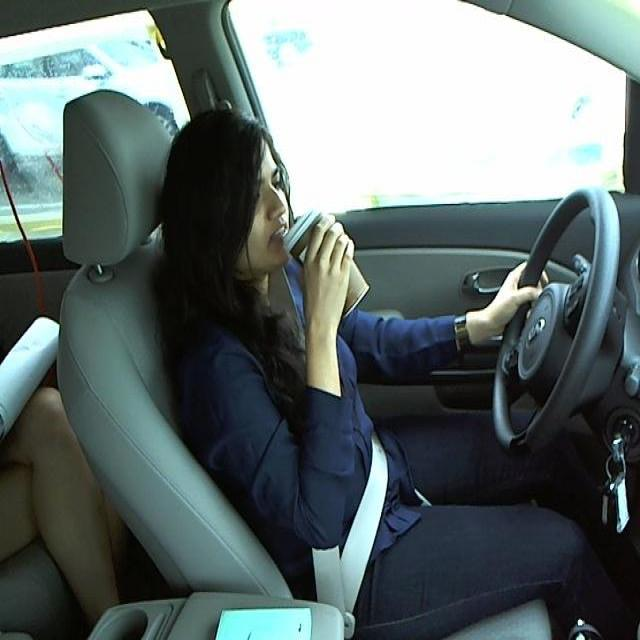drinking: (279, 201, 369, 316)
